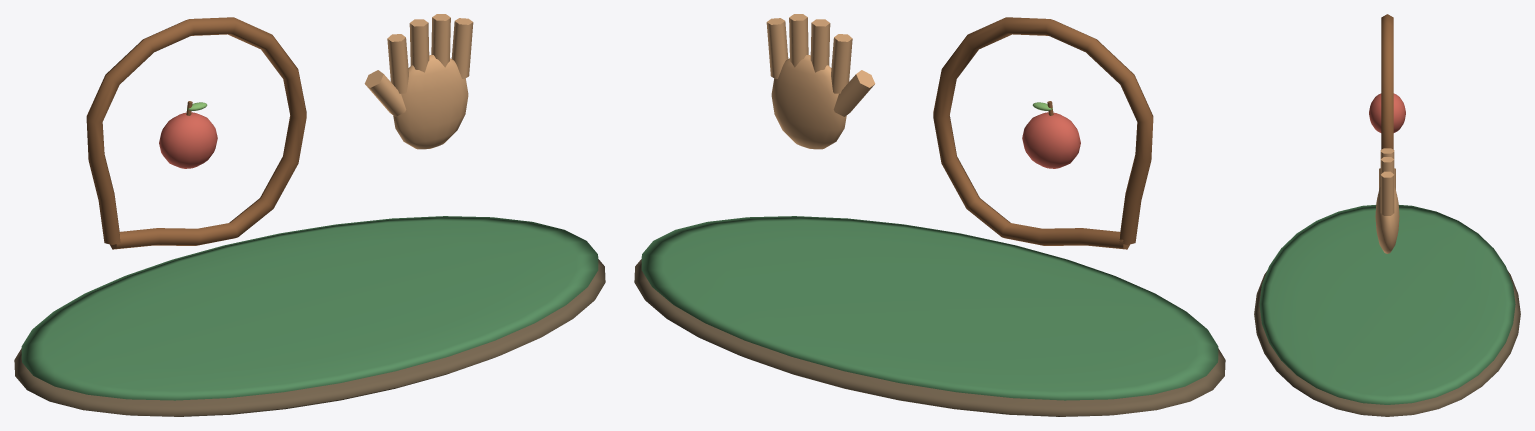
The model's file is complete-first-place-in-square.glb.
3 views of the same model, side by side, from view 1: azimuth 30°, elevation 25°; view 2: azimuth 150°, elevation 25°; view 3: azimuth 270°, elevation 25° (orthographic). The views are drawn at different scales.
Visible parts, largest first — view 1: complete-first-place-in-square_surface_01, complete-first-place-in-square_surface_02, complete-first-place-in-square_surface_00, complete-first-place-in-square_surface_03, complete-first-place-in-square_surface_04; view 2: complete-first-place-in-square_surface_01, complete-first-place-in-square_surface_02, complete-first-place-in-square_surface_00, complete-first-place-in-square_surface_03, complete-first-place-in-square_surface_04; view 3: complete-first-place-in-square_surface_01, complete-first-place-in-square_surface_00, complete-first-place-in-square_surface_03, complete-first-place-in-square_surface_02, complete-first-place-in-square_surface_04.
Boxes of the visible parts, <box> form: complete-first-place-in-square_surface_01: <box>21,216,598,400</box>; complete-first-place-in-square_surface_02: <box>86,17,306,249</box>; complete-first-place-in-square_surface_00: <box>14,259,605,416</box>; complete-first-place-in-square_surface_03: <box>364,14,473,149</box>; complete-first-place-in-square_surface_04: <box>159,112,217,168</box>; complete-first-place-in-square_surface_01: <box>641,216,1218,400</box>; complete-first-place-in-square_surface_02: <box>933,17,1153,249</box>; complete-first-place-in-square_surface_00: <box>634,259,1225,416</box>; complete-first-place-in-square_surface_03: <box>766,14,875,149</box>; complete-first-place-in-square_surface_04: <box>1022,112,1080,168</box>; complete-first-place-in-square_surface_01: <box>1259,205,1515,404</box>; complete-first-place-in-square_surface_00: <box>1254,270,1520,416</box>; complete-first-place-in-square_surface_03: <box>1375,148,1399,253</box>; complete-first-place-in-square_surface_02: <box>1381,14,1393,149</box>; complete-first-place-in-square_surface_04: <box>1369,93,1405,132</box>.
Bounding box in the file's own units: 4.56 × 2.68 × 2.5.
